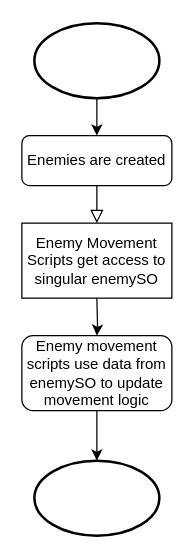
Image size: 194x558. Some labels were removed from this diagram. The shapes that lost their labels are listed below. From the top down, each one's centre as x and y in pixels, then its label:
pixel 96 60: Start
pixel 96 497: End
